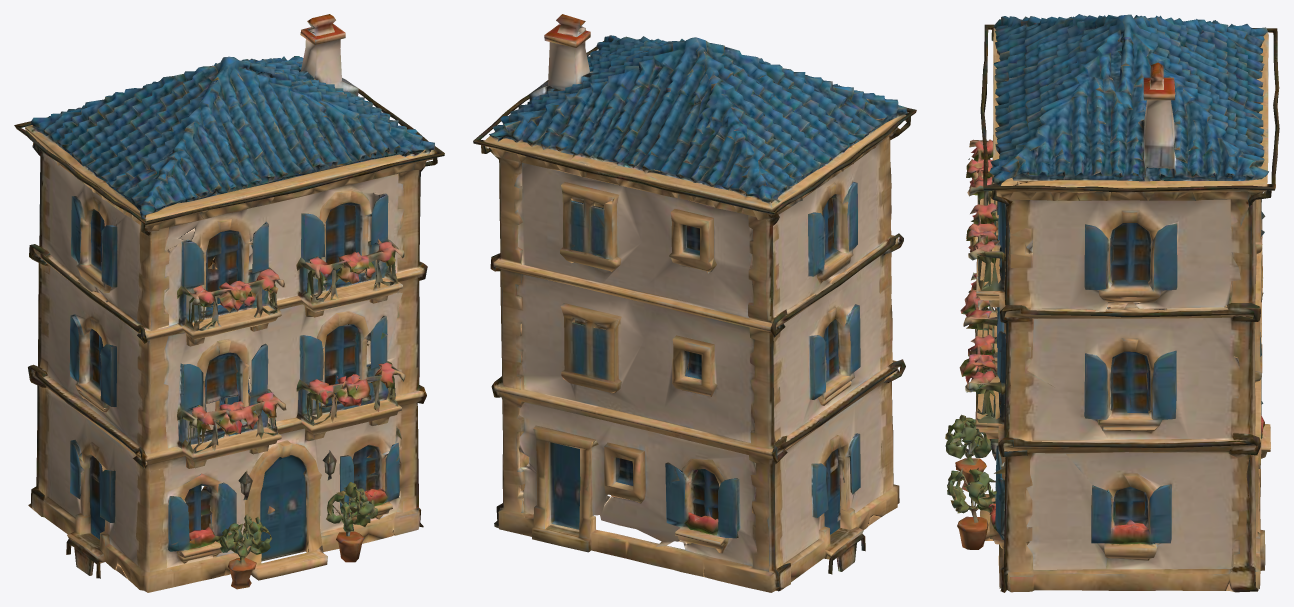
The picture shows the model from 3 angles, left to right: view 1: azimuth 30°, elevation 25°; view 2: azimuth 150°, elevation 25°; view 3: azimuth 270°, elevation 25°; orthographic projection. The views are drawn at different scales.
Visible parts, largest first — view 1: harbor__villa_3__native_mobile; view 2: harbor__villa_3__native_mobile; view 3: harbor__villa_3__native_mobile.
Boxes of the visible parts, x1,y1,x2,y2 form: harbor__villa_3__native_mobile: [14, 14, 444, 592]; harbor__villa_3__native_mobile: [473, 14, 916, 592]; harbor__villa_3__native_mobile: [945, 14, 1279, 592].
Size of the model in its own units: 0.6608 by 1 by 0.5756.
Materials: 1 (1 with a texture image).
